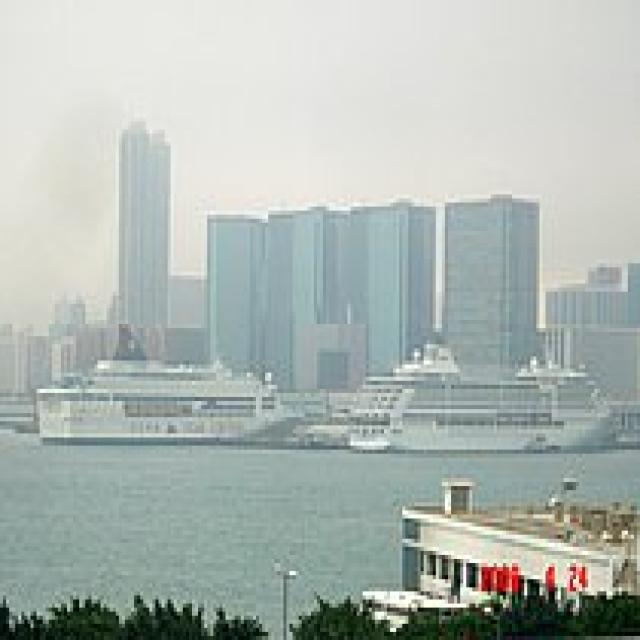Cruise: (30, 316, 311, 446), (341, 336, 616, 450)
